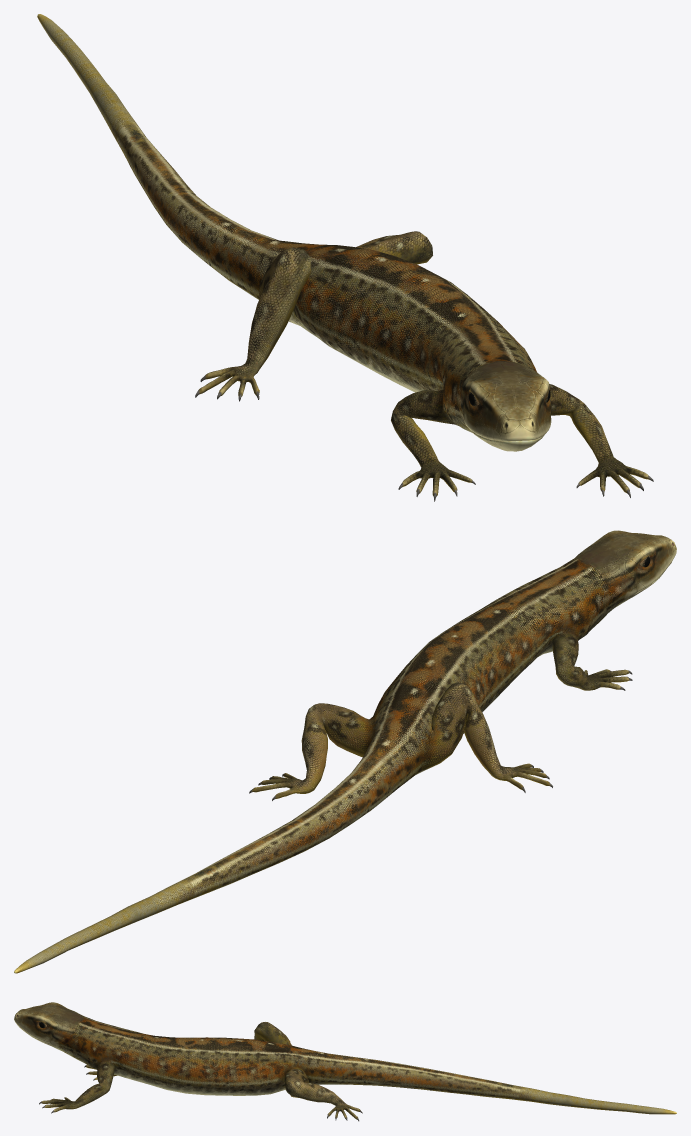
Rendered from Standing111.obj.
3 renders of one model, top to bottom at view 1: azimuth 30°, elevation 25°; view 2: azimuth 150°, elevation 25°; view 3: azimuth 270°, elevation 25°, orthographic. The views are drawn at different scales.
Parts seen in each view (by area): view 1: Lizard; view 2: Lizard; view 3: Lizard.
Boxes of the visible parts, <box> form: Lizard: <box>37,14,653,501</box>; Lizard: <box>14,530,676,973</box>; Lizard: <box>14,1002,676,1121</box>.
Size of the model in its own units: 25.34 by 12.08 by 102.
